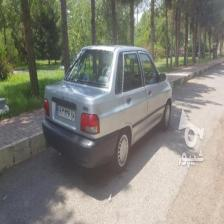plate: (55, 102, 76, 121)
